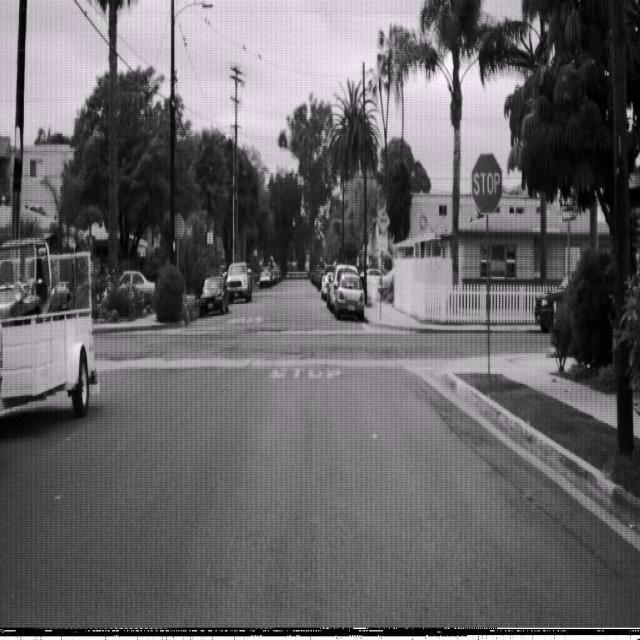stop: (470, 152, 502, 215)
